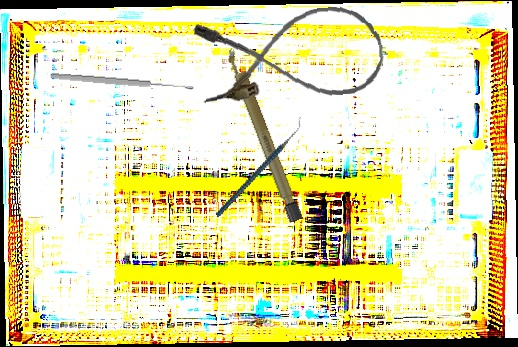Cannula: (192, 2, 388, 108)
Chopper: (194, 116, 324, 218)
Scalpel Handle: (224, 45, 304, 224)
Surgical Spoon: (49, 71, 195, 93)
